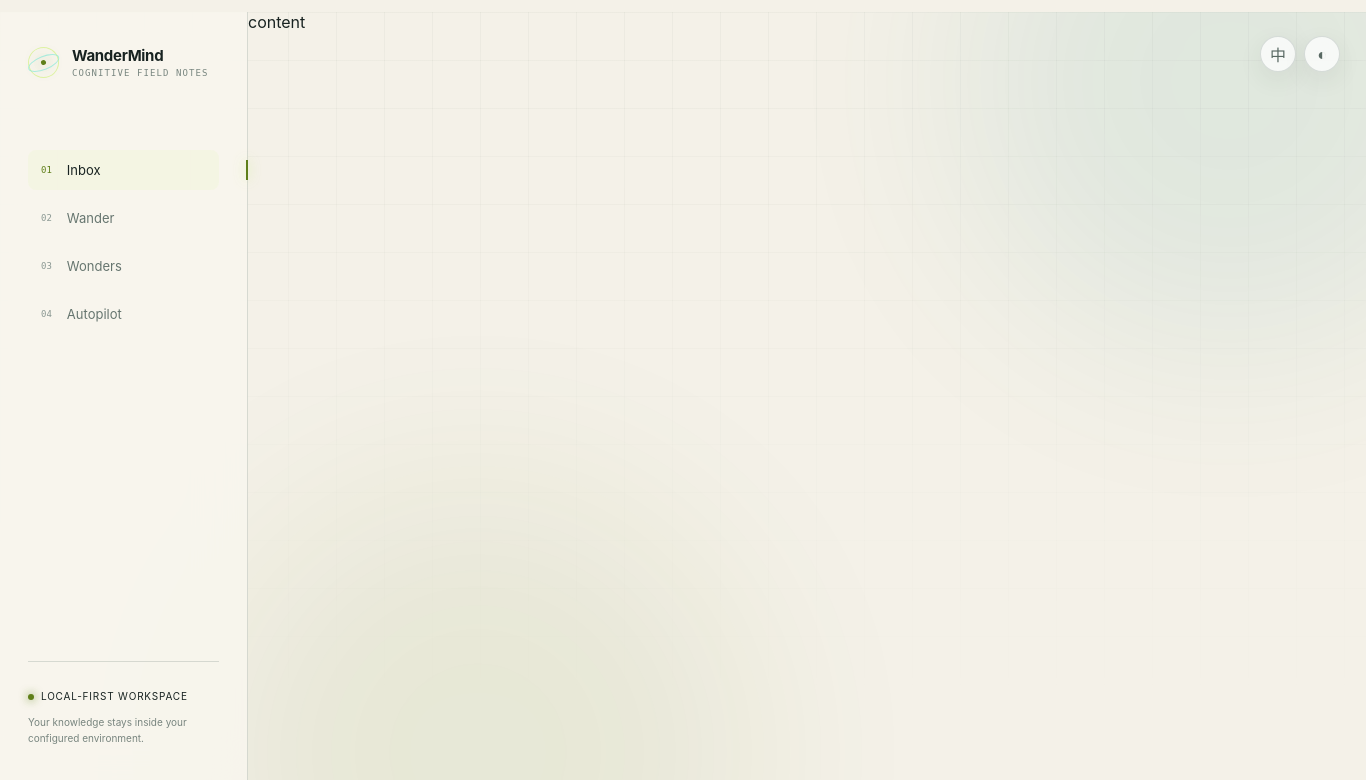
Test: PreferencesProvider › switches languages and persists the preference
What coordinates should you click on to do the following:
click the button named "Switch to Chinese"
I would click on:
 (1278, 54)
Its box is [1260,36,1296,72].
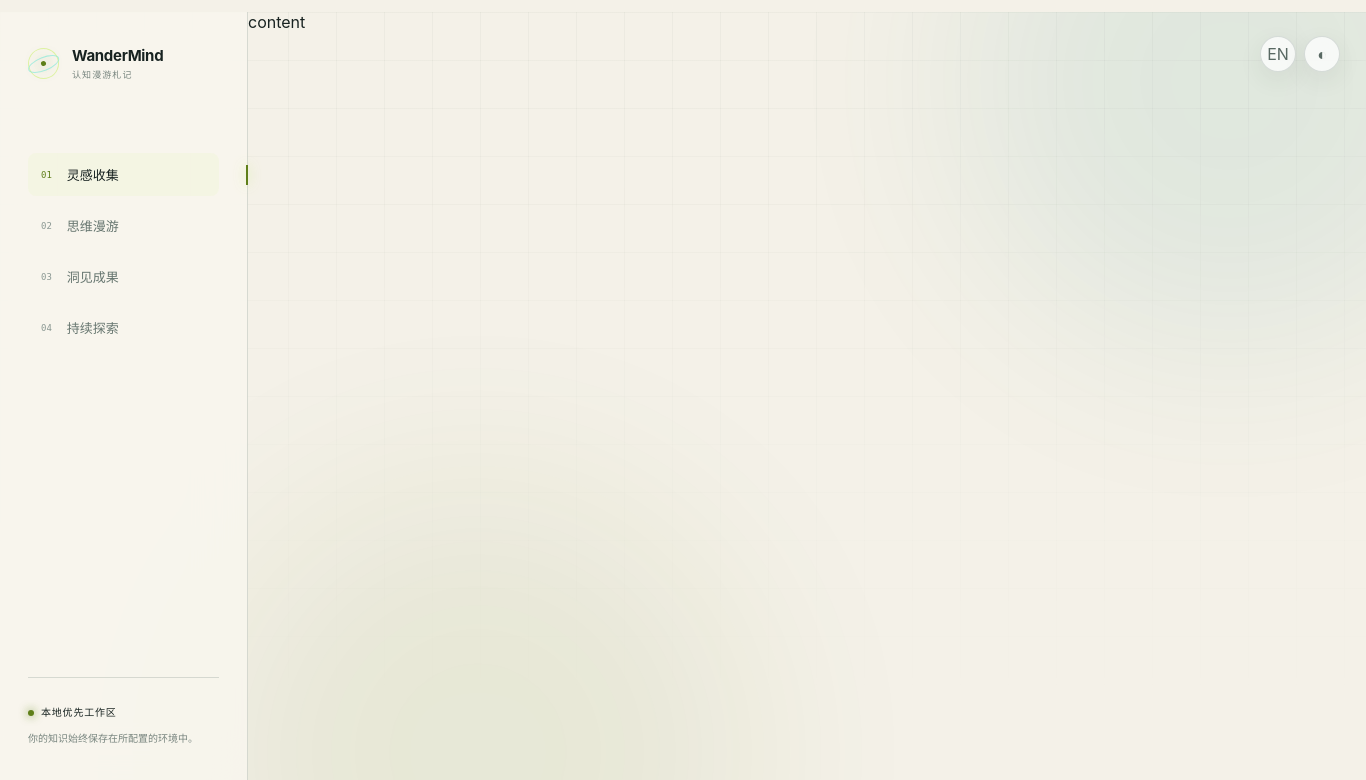
Result: the link "01 灵感收集" is shown at [28,153,219,196]
